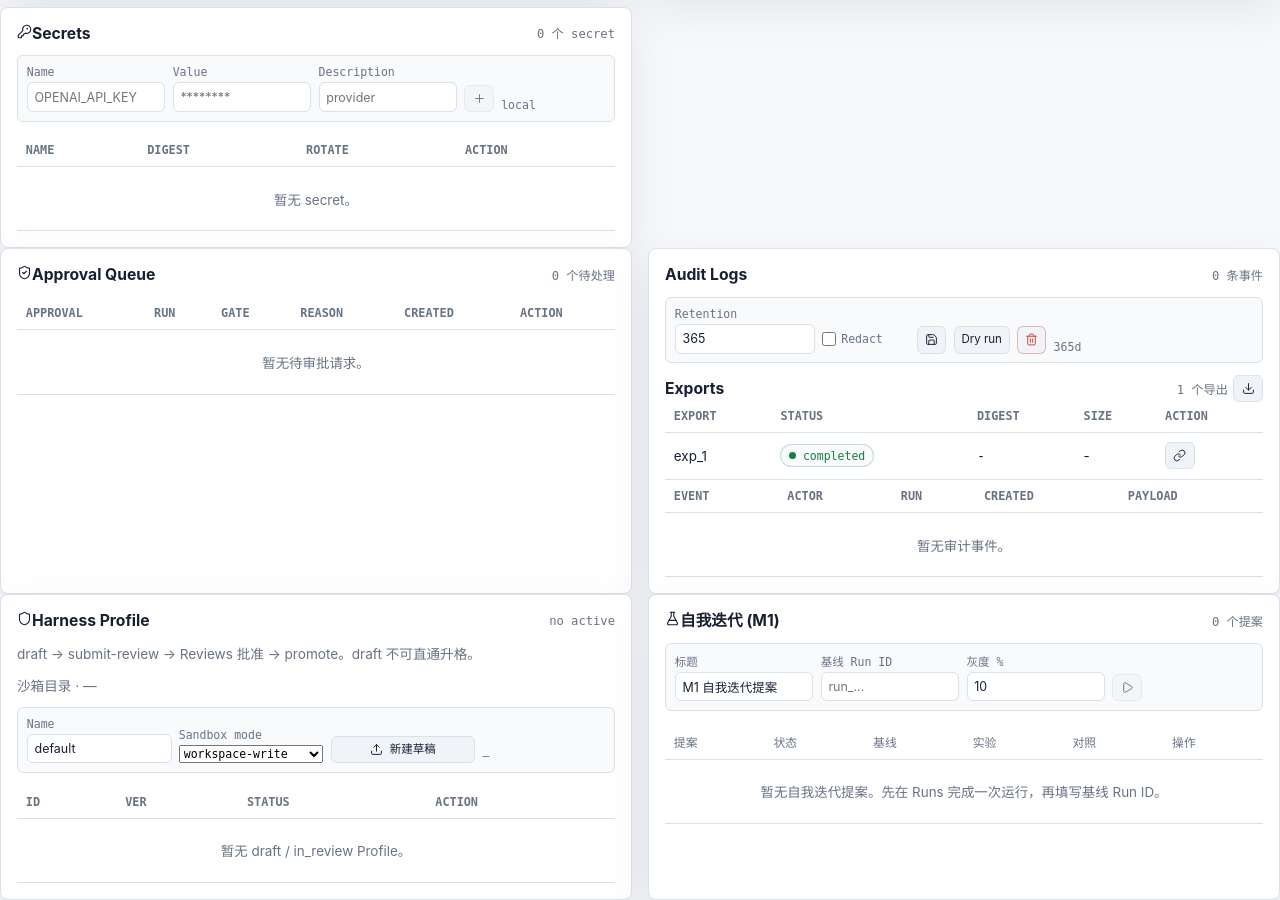
Test: AutomationPage › tolerates audit export access without digest
(page scrolled)
Click the button with test id "audit-export-access-exp_1" at {"x": 1180, "y": 456}, box [1165,442,1195,469]
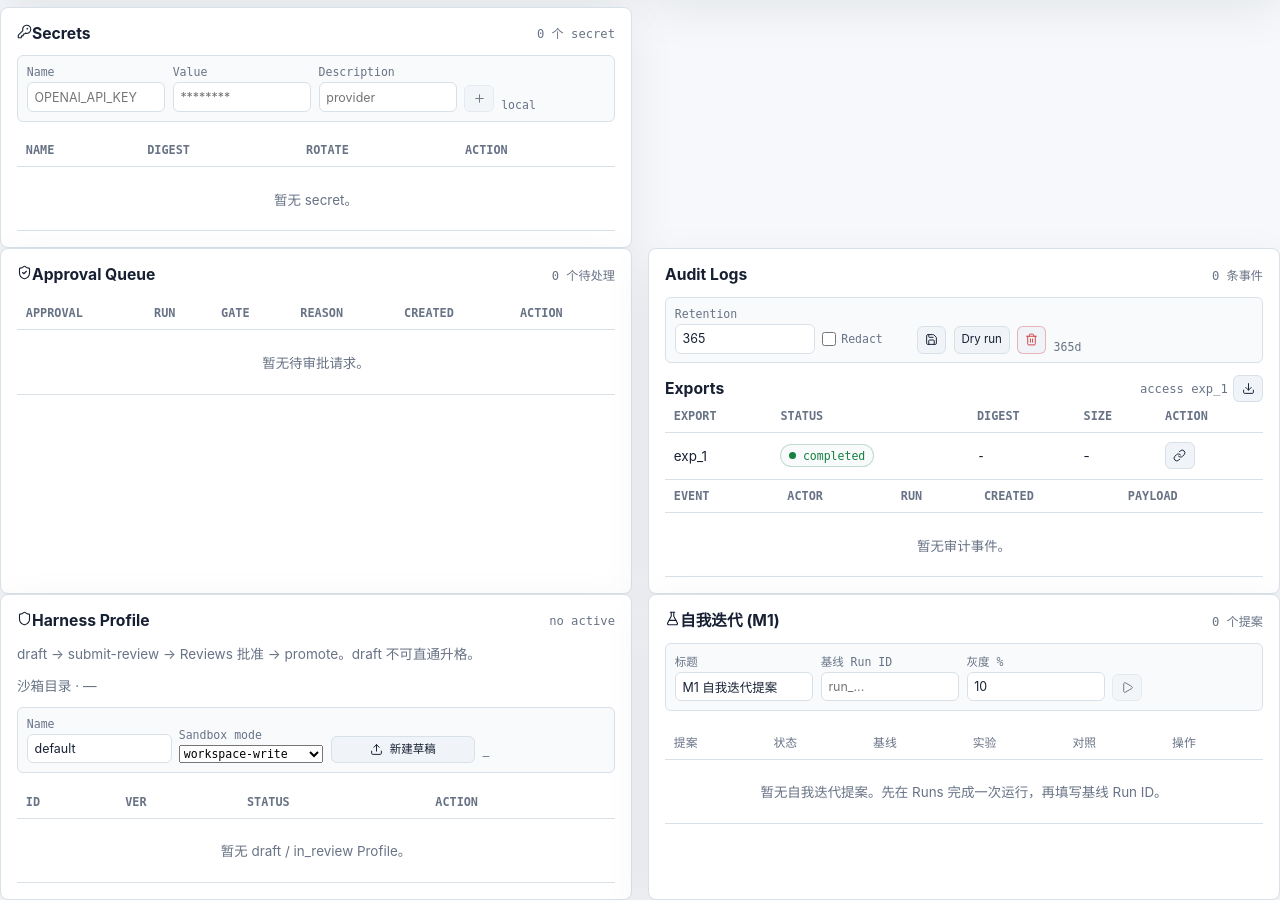
Now the text "access exp_1" is shown, box [1140,382,1228,396]
